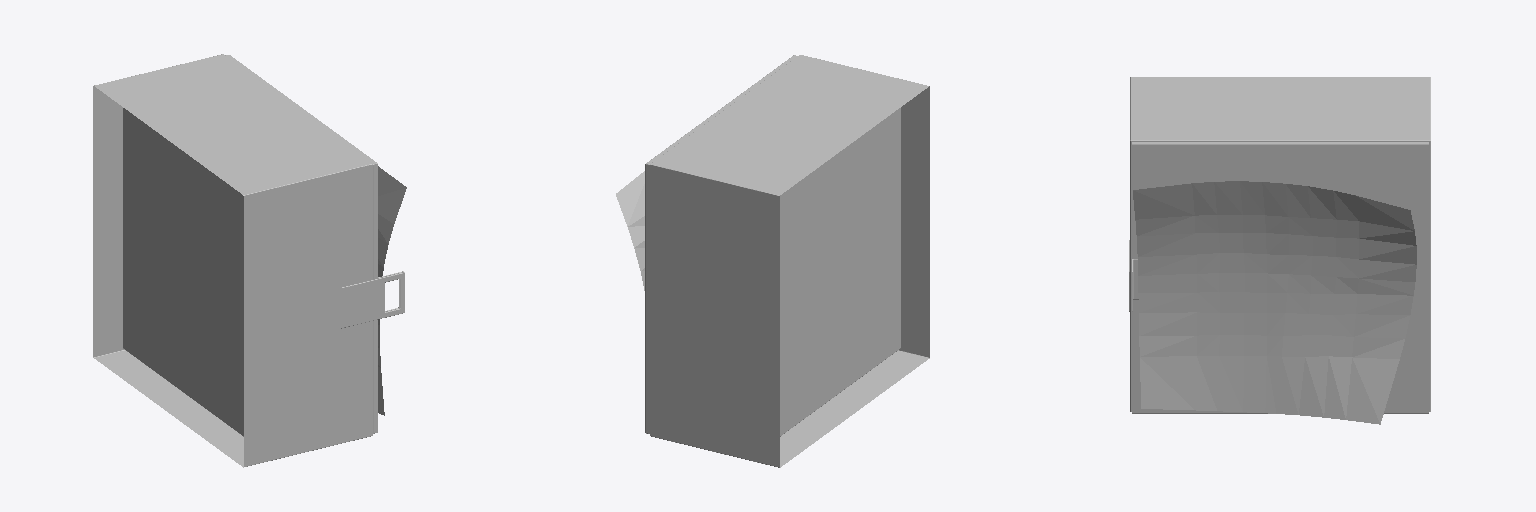
The model's file is hor1 itembox 1a.obj.
The picture shows the model from 3 angles: view 1: azimuth 30°, elevation 25°; view 2: azimuth 150°, elevation 25°; view 3: azimuth 270°, elevation 25°; orthographic projection.
Visible parts, largest first — view 1: itembox_1_Cube, itembox_1_cover_Cube.001; view 2: itembox_1_Cube, itembox_1_cover_Cube.001; view 3: itembox_1_cover_Cube.001, itembox_1_Cube.
Part boxes in pixels (x1,y1,x2,y2): itembox_1_Cube: (93,54,404,467); itembox_1_cover_Cube.001: (225,55,406,433); itembox_1_Cube: (650,55,929,467); itembox_1_cover_Cube.001: (616,55,796,433); itembox_1_cover_Cube.001: (1132,142,1428,424); itembox_1_Cube: (1129,77,1430,411).
Size of the model in its own units: 0.3351 by 0.5015 by 0.502.